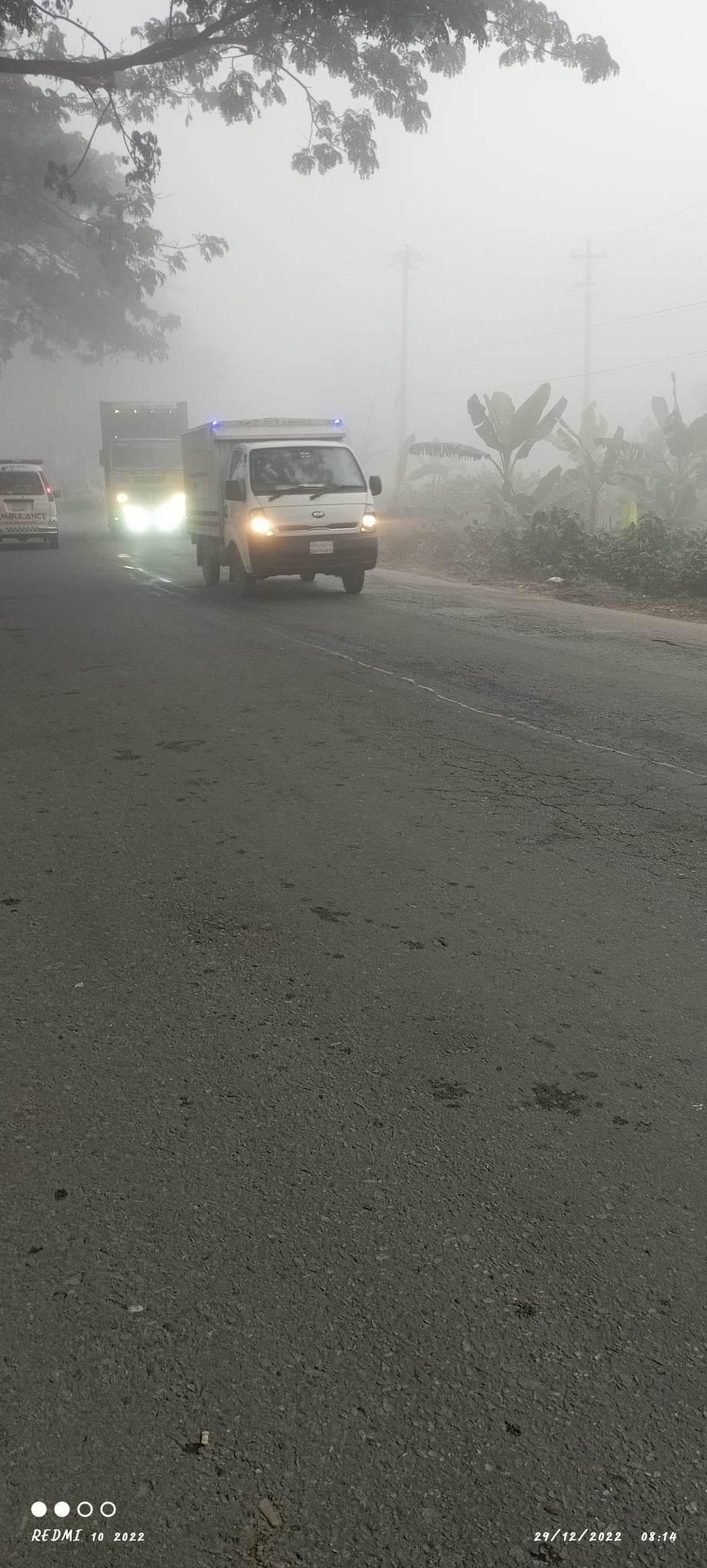Car: (5, 450, 81, 561)
Truck: (178, 413, 407, 613), (90, 391, 202, 545)
